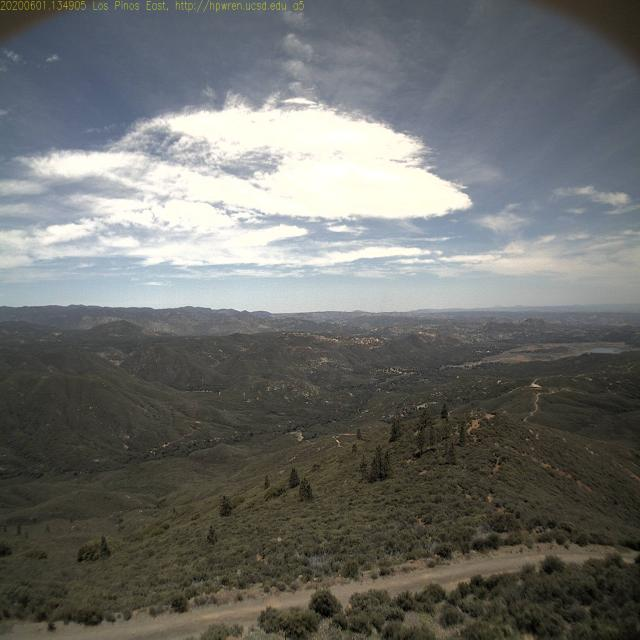smoke: (376, 296, 399, 320)
